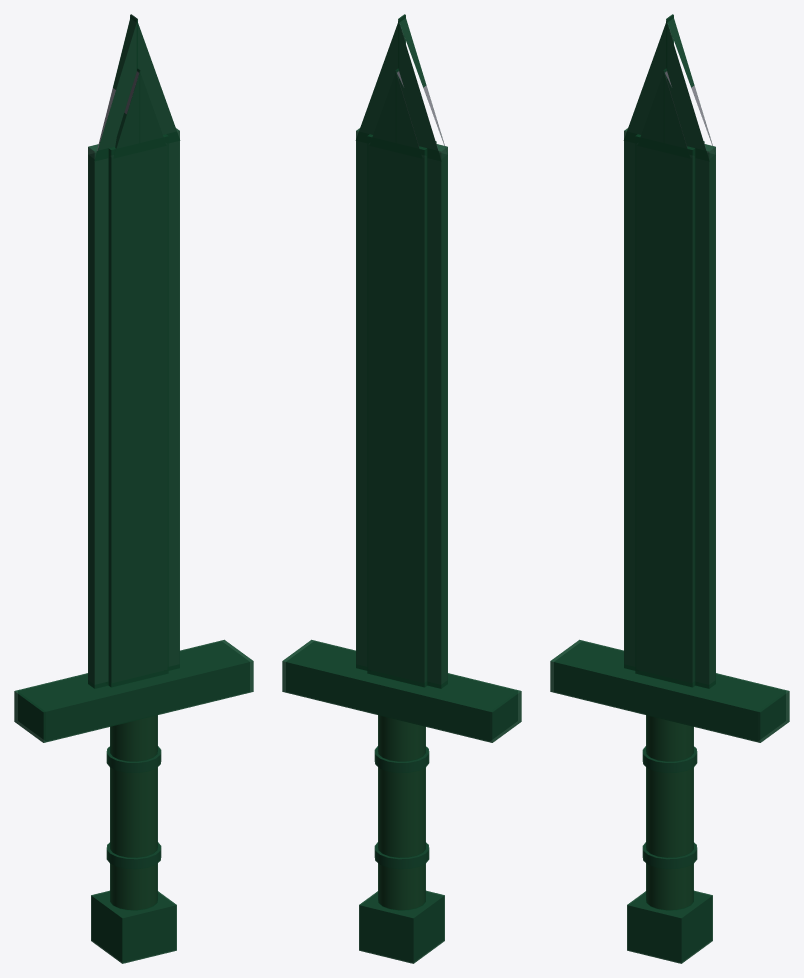
3 renders of one model, left to right at view 1: azimuth 30°, elevation 25°; view 2: azimuth 150°, elevation 25°; view 3: azimuth 330°, elevation 25°, orthographic.
Visible parts, largest first — view 1: rank-overlord-b; view 2: rank-overlord-b; view 3: rank-overlord-b.
Part boxes in pixels (x1,y1,x2,y2): rank-overlord-b: [14, 14, 253, 963]; rank-overlord-b: [282, 14, 521, 963]; rank-overlord-b: [550, 14, 789, 963].
Size of the model in its own units: 0.2024 by 0.8551 by 0.0526.
